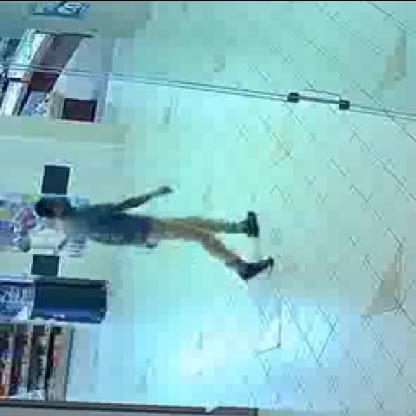Human Body: (34, 185, 276, 281)
